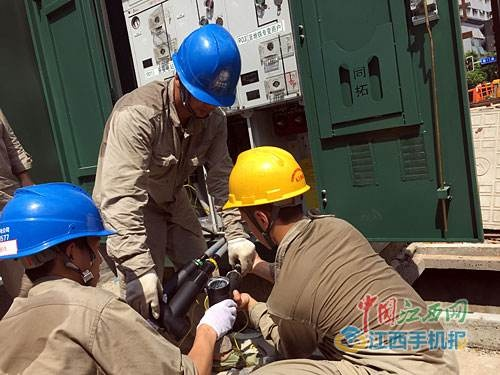blue: (6, 179, 109, 295), (168, 24, 240, 117)
yellow: (225, 144, 312, 247)
